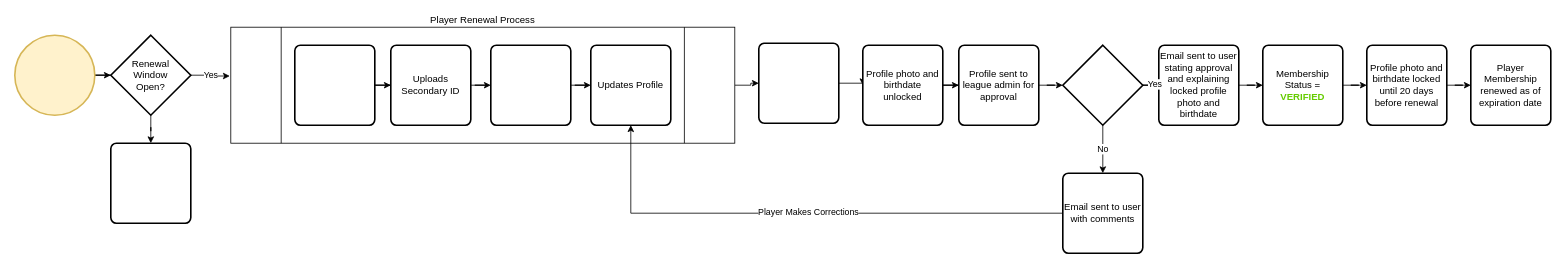
Image size: 1565x268. Some labels were removed from this diagram. Here are the shapes that lost their labels. From the top down, the centre of each, then its label:
the point at 54,75: Player Attempts to Renew Membership
the point at 334,85: Signs Waiver
the point at 530,85: Pays Renewal Fee
the point at 798,83: Membership Status = PENDING
the point at 1102,85: League Admin Approves?
the point at 150,183: Renewal Button Locked, Error Modal presented
